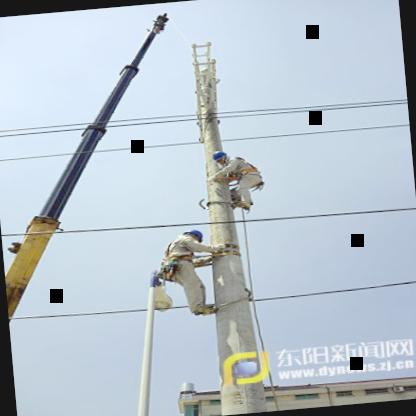helmet: (176, 226, 208, 249), (202, 147, 234, 167)
